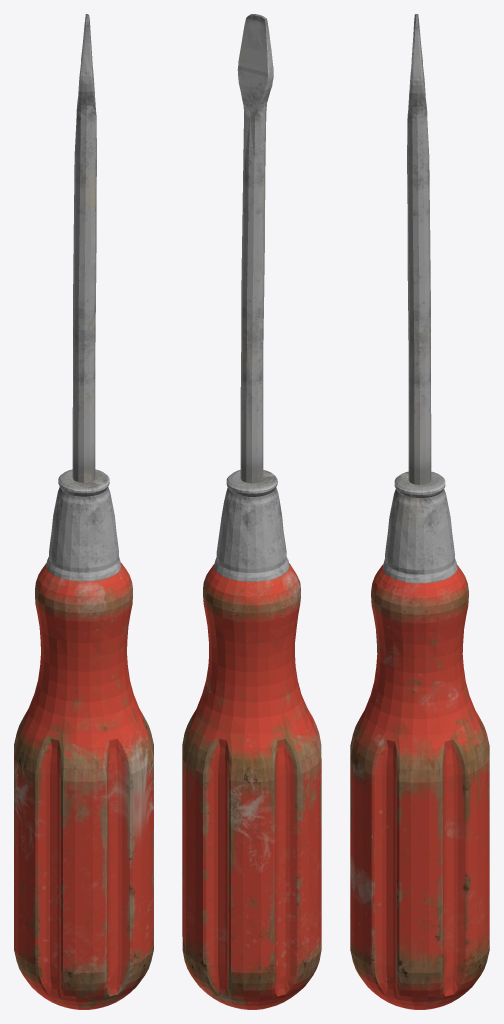
The model's file is RedScrewdriver.obj.
3 views of the same model, side by side, from view 1: azimuth 90°, elevation 25°; view 2: azimuth 150°, elevation 25°; view 3: azimuth 270°, elevation 25° (orthographic).
Visible parts, largest first — view 1: Sphere_005; view 2: Sphere_005; view 3: Sphere_005.
Part boxes in pixels (left/top/right/bottom): Sphere_005: left=14, top=14, right=153, bottom=1009; Sphere_005: left=182, top=14, right=321, bottom=1009; Sphere_005: left=350, top=14, right=489, bottom=1009.
Bounding box in the file's own units: 0.0272 × 0.209 × 0.0268.
Materials: 1 (1 with a texture image).
